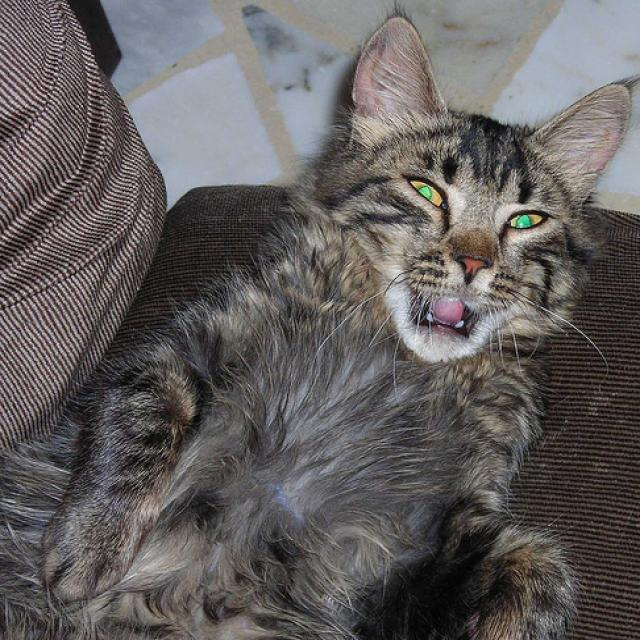cat: (1, 3, 638, 639)
